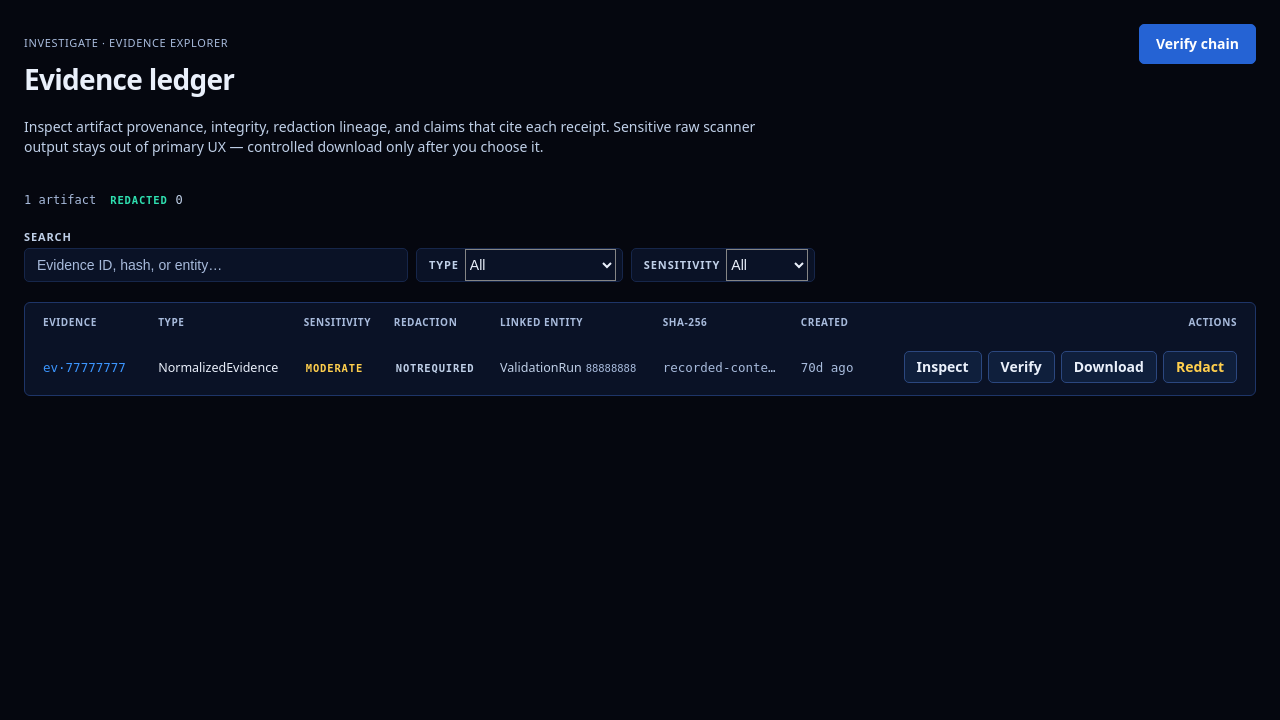
EvidenceLedger › makes the first tampered sequence unmistakable
This screenshot has width=1280, height=720.
Step 1. Click the button "Verify chain" → (1197, 44), box x1=1139 y1=24 x2=1256 y2=64
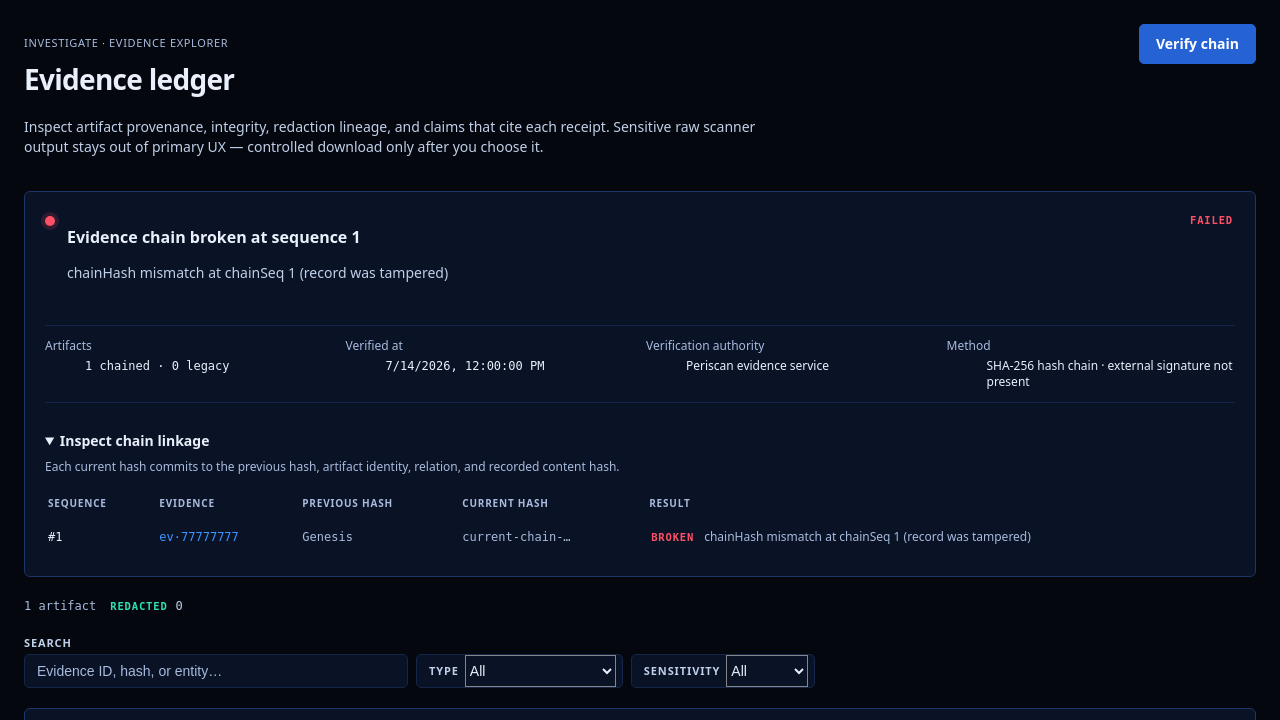
Now the heading "Evidence chain broken at sequence 1" is shown, box x1=67 y1=226 x2=361 y2=248
Now the text "chainHash mismatch at chainSeq 1 (record was tampered)" is shown 2 times, box x1=67 y1=263 x2=448 y2=283; x1=704 y1=528 x2=1031 y2=545
Now the text "Failed" is shown, box x1=1188 y1=212 x2=1235 y2=228
